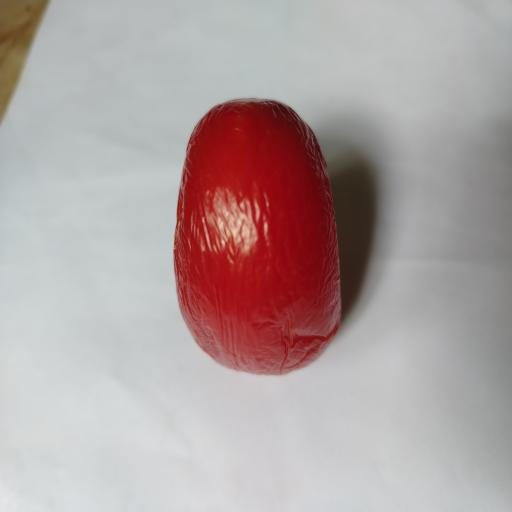spoiled: (174, 99, 341, 374)
